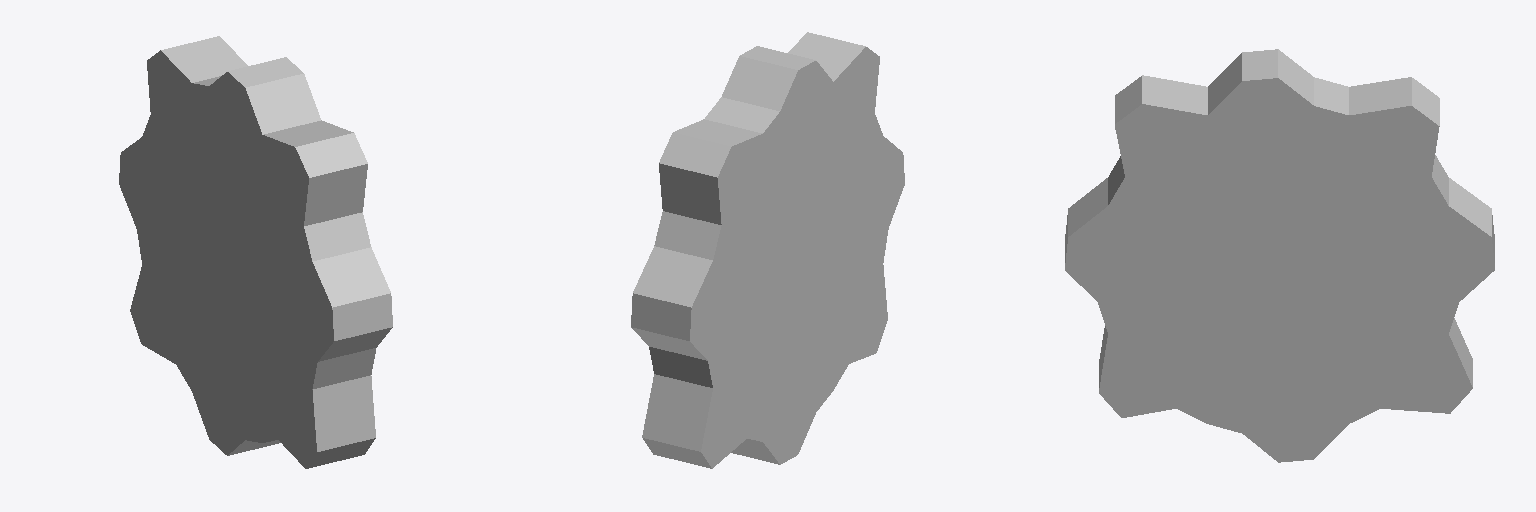
File: Gear.obj
3 views of the same model, side by side, from view 1: azimuth 30°, elevation 25°; view 2: azimuth 150°, elevation 25°; view 3: azimuth 270°, elevation 25° (orthographic).
Parts seen in each view (by area): view 1: 円柱; view 2: 円柱; view 3: 円柱.
Part boxes in pixels (x1,y1,x2,y2): 円柱: (119,36,392,468); 円柱: (631,32,904,468); 円柱: (1065,49,1494,462).
Bounding box in the file's own units: 0.3693 × 2.3 × 2.34.